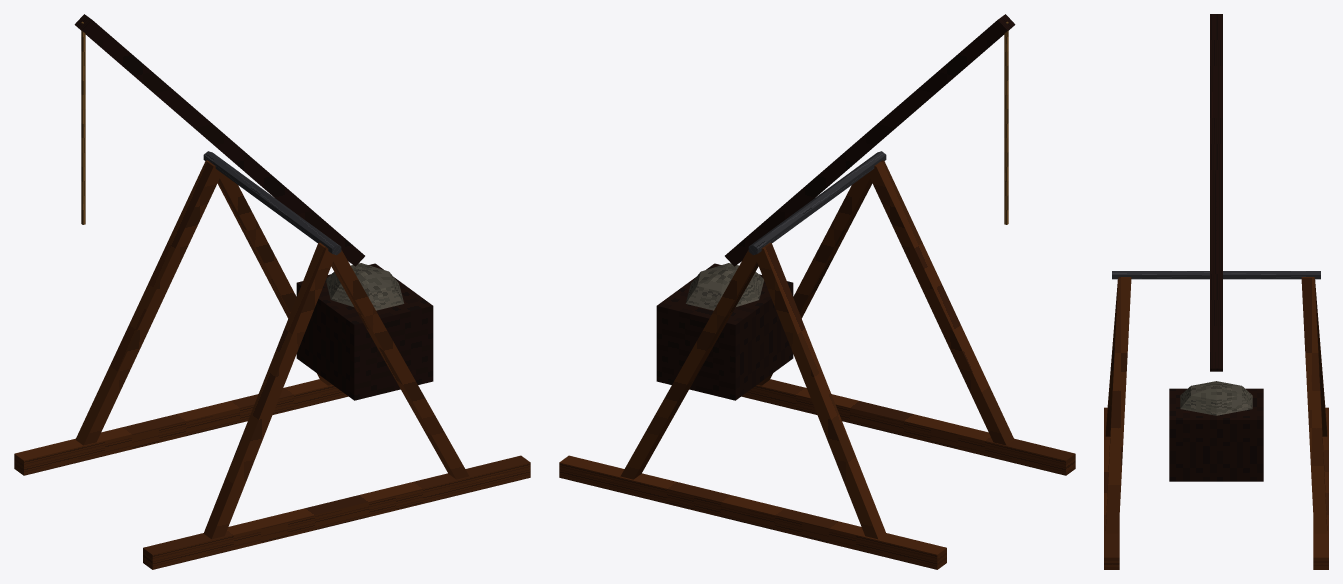
Rendered from trebuchet.glb.
3 renders of one model, left to right at view 1: azimuth 30°, elevation 25°; view 2: azimuth 150°, elevation 25°; view 3: azimuth 270°, elevation 25°, orthographic. The views are drawn at different scales.
Visible parts, largest first — view 1: caballetes, base, contrapeso, brazo, contrapeso_2, eje, honda; view 2: caballetes, base, contrapeso, brazo, contrapeso_2, eje, honda; view 3: caballetes, contrapeso, brazo, base, contrapeso_2, eje.
Part boxes in pixels (box(x1,y1,x2,y2)): caballetes: box(75, 160, 469, 539); base: box(14, 379, 530, 569); contrapeso: box(296, 263, 433, 400); brazo: box(74, 14, 364, 266); contrapeso_2: box(326, 263, 404, 310); eje: box(203, 151, 341, 255); honda: box(81, 21, 85, 224); caballetes: box(620, 160, 1014, 539); base: box(559, 379, 1075, 569); contrapeso: box(656, 263, 793, 400); brazo: box(725, 14, 1015, 266); contrapeso_2: box(685, 263, 763, 310); eje: box(748, 151, 886, 255); honda: box(1004, 21, 1008, 224); caballetes: box(1105, 277, 1327, 533); contrapeso: box(1169, 388, 1263, 481); brazo: box(1210, 14, 1222, 371); base: box(1104, 407, 1328, 569); contrapeso_2: box(1180, 381, 1252, 415); eje: box(1112, 271, 1320, 279).
Bounding box in the file's own units: 8 × 10 × 5.
Materials: 1 (1 with a texture image).
